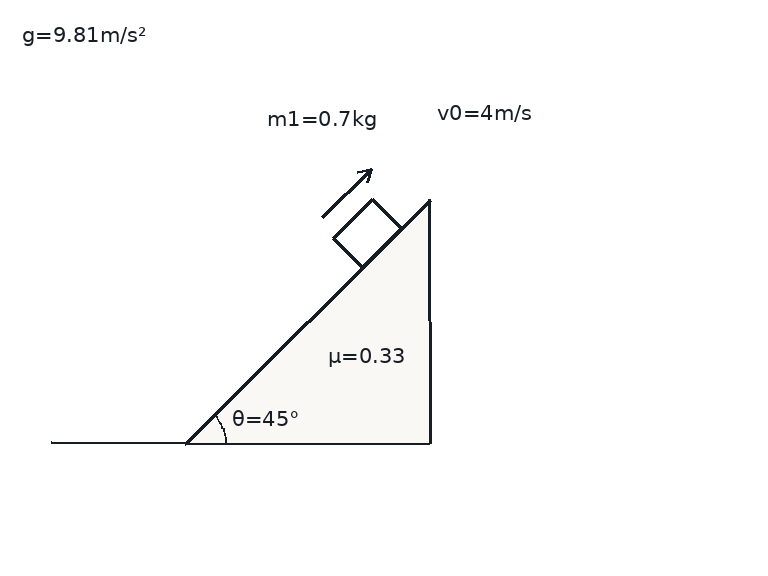block: (331, 197, 403, 269)
ramp: (184, 198, 431, 445)
